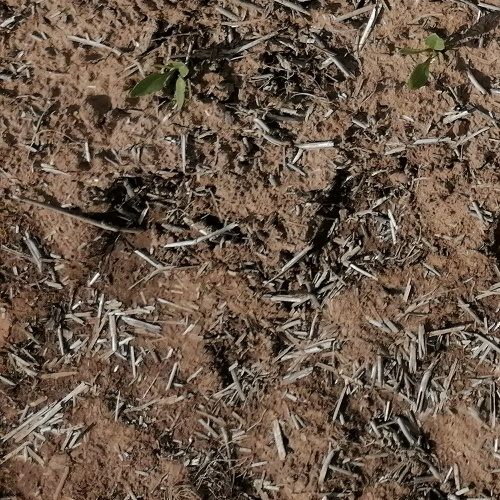beet: (128, 62, 188, 108), (409, 34, 444, 89)
